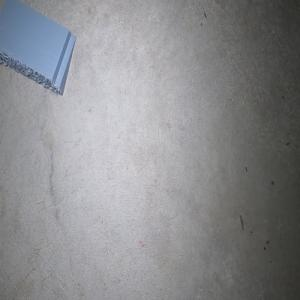PlasticPart: (0, 0, 76, 95)
